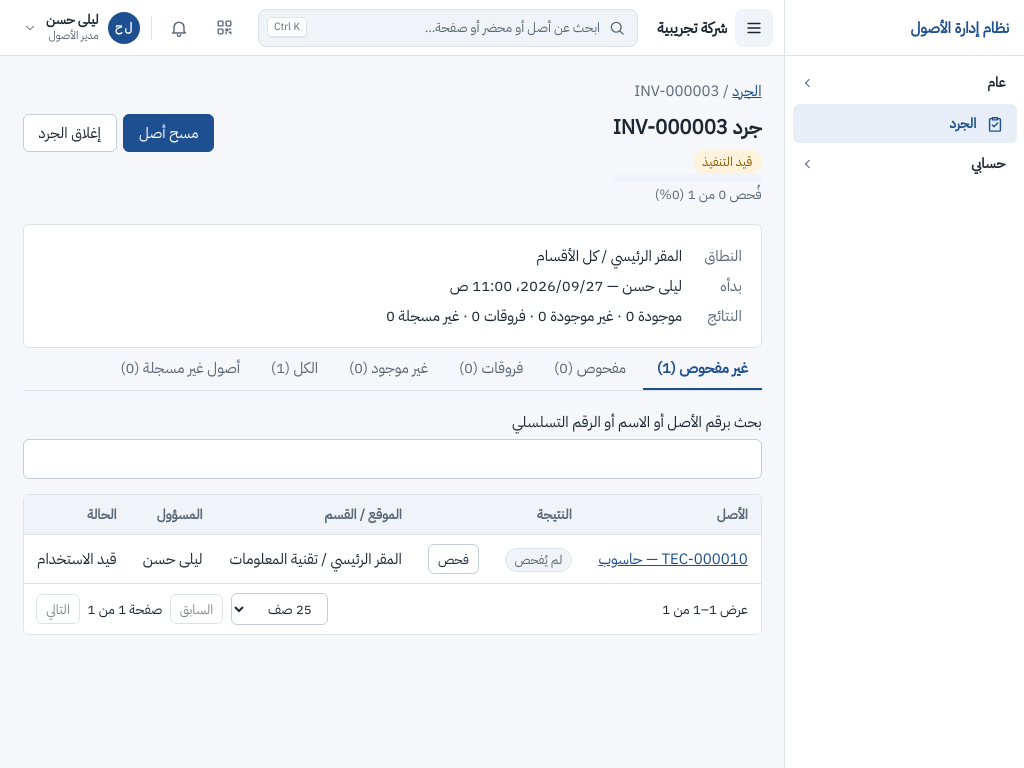
Test: Inventory counting › closing explains that unchecked assets block it
What coordinates should you click on to do the following:
click the button "إغلاق الجرد"
I would click on:
 (70, 133)
Its box is 22,114 -> 117,152.
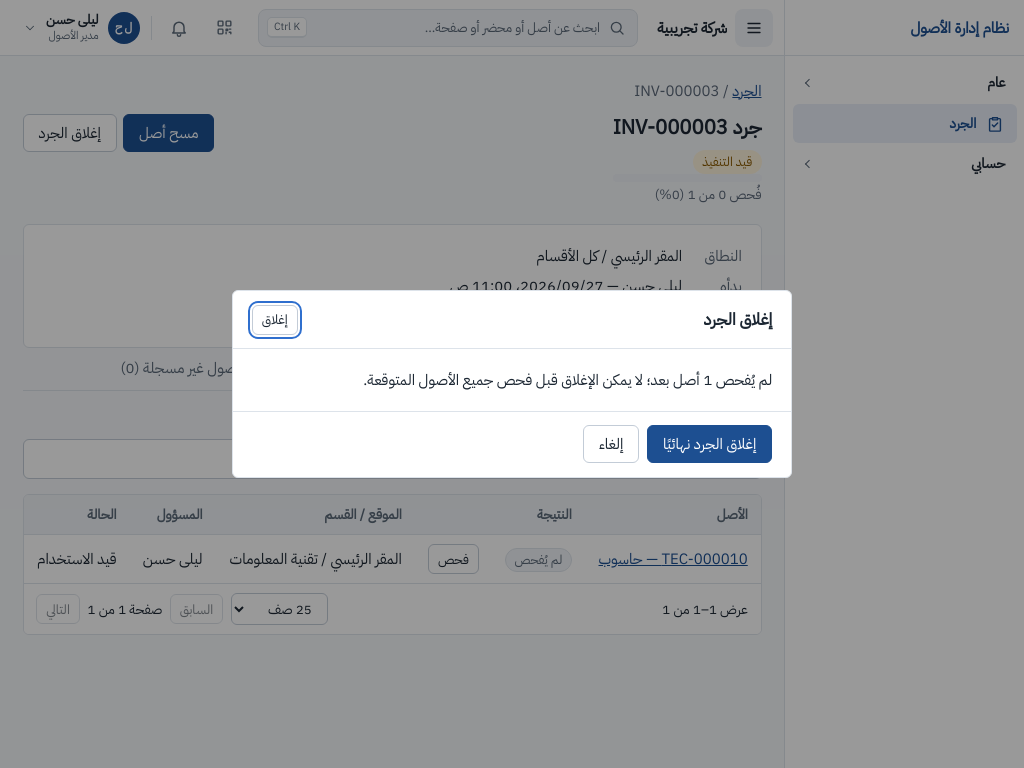
Expected: the dialog shows "لم يُفحص 1 أصل بعد", 363,369 -> 772,391
